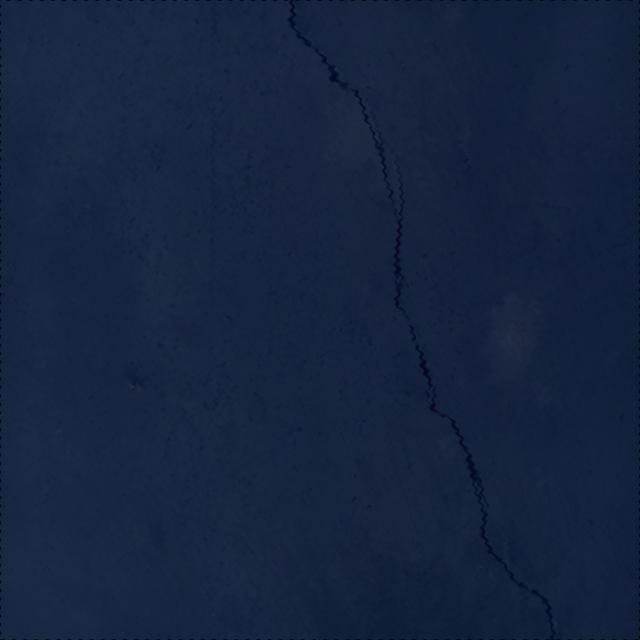crack: (287, 0, 556, 640), (440, 582, 504, 640)
